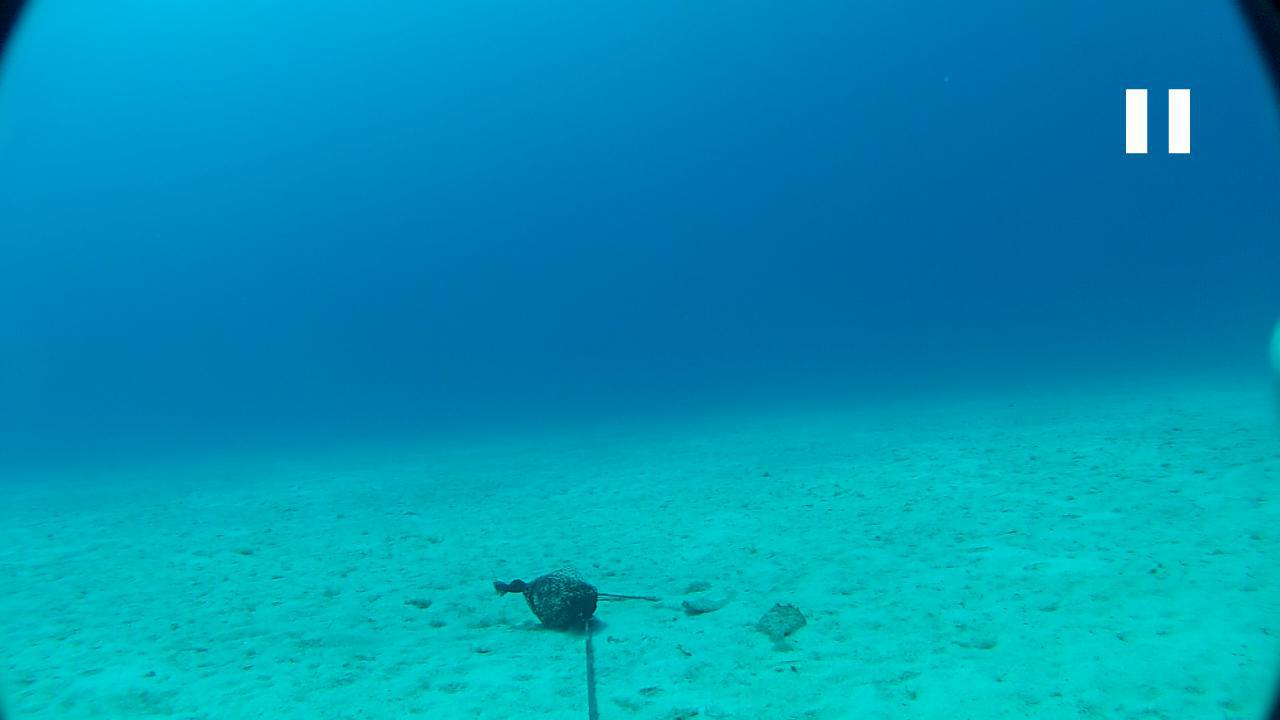bothus: (752, 596, 809, 654), (676, 588, 732, 624)
